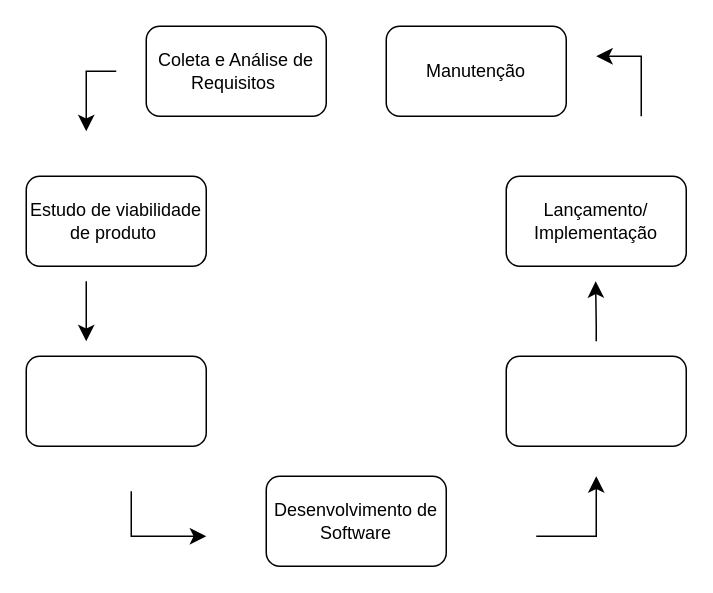
Some shapes in this 713 by 593 pixel diagram are drawn without their labels. Each missing label, with the box of its shape:
Design de Software: (25, 355, 206, 446)
Testagem de Software: (505, 355, 686, 446)
